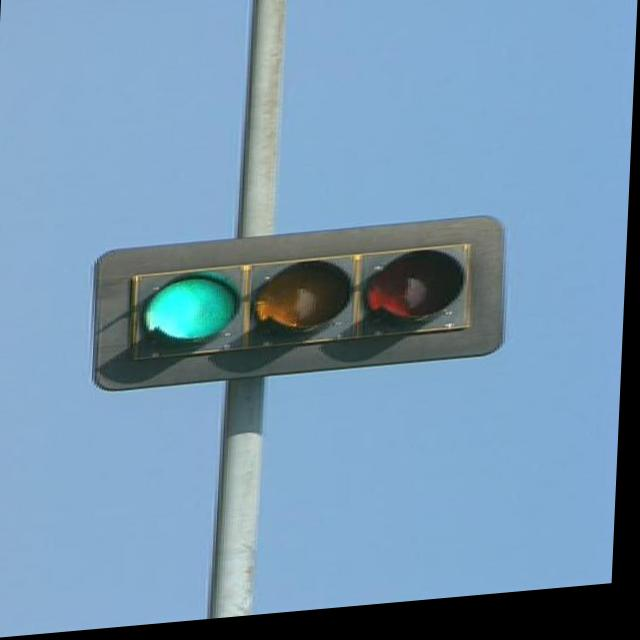green light: (140, 254, 469, 362)
